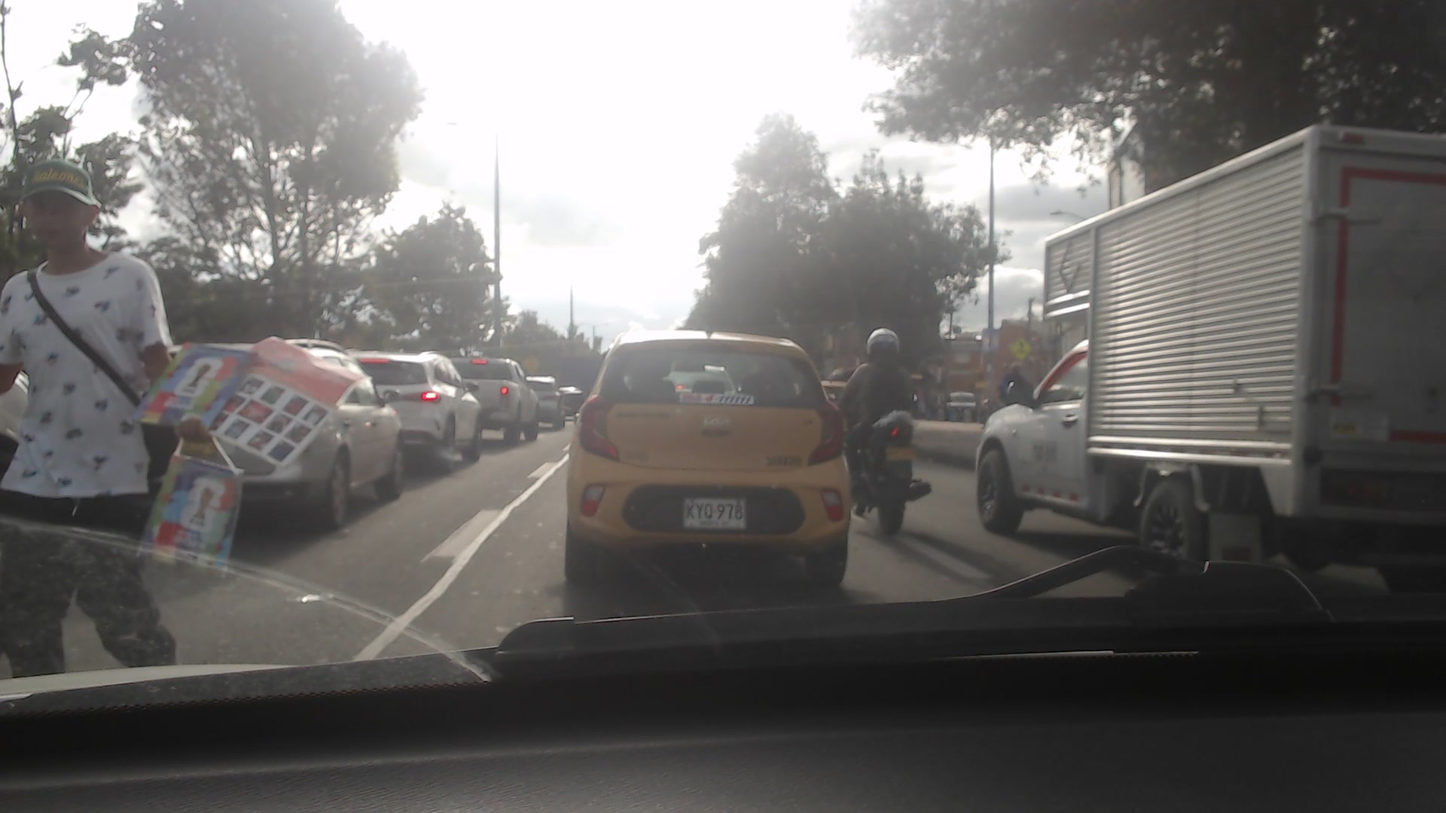car: (560, 330, 851, 599), (359, 352, 482, 474), (452, 354, 543, 441)
motorcycle: (834, 408, 919, 531)
person: (0, 148, 209, 682), (849, 314, 918, 486)
truck: (958, 122, 1446, 576)
